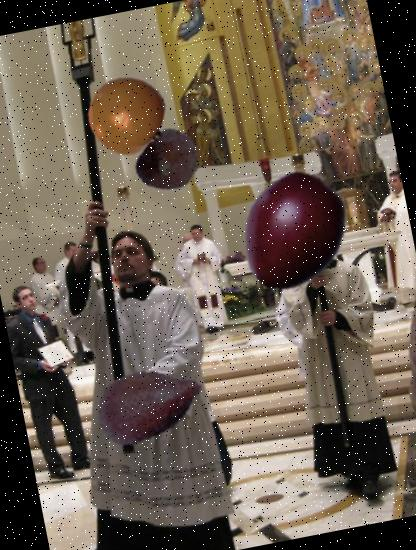Salak: (82, 336, 216, 470), (132, 124, 207, 198)
Tamarillo: (218, 151, 372, 305)
Tomato: (78, 66, 174, 162)
